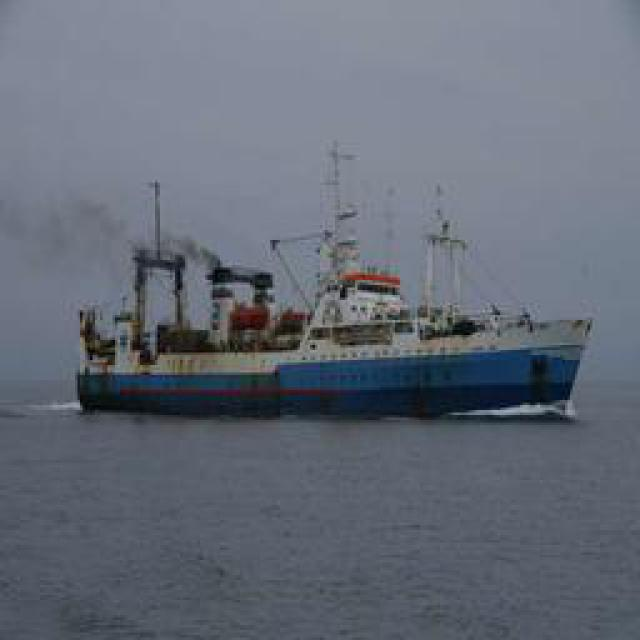Ship: (75, 152, 603, 420)
